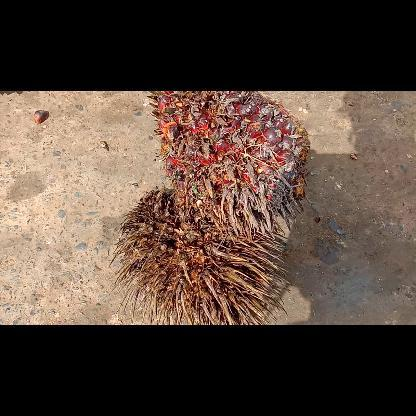Janjang kosong: (109, 190, 291, 324)
TBS masak: (149, 90, 309, 238)
